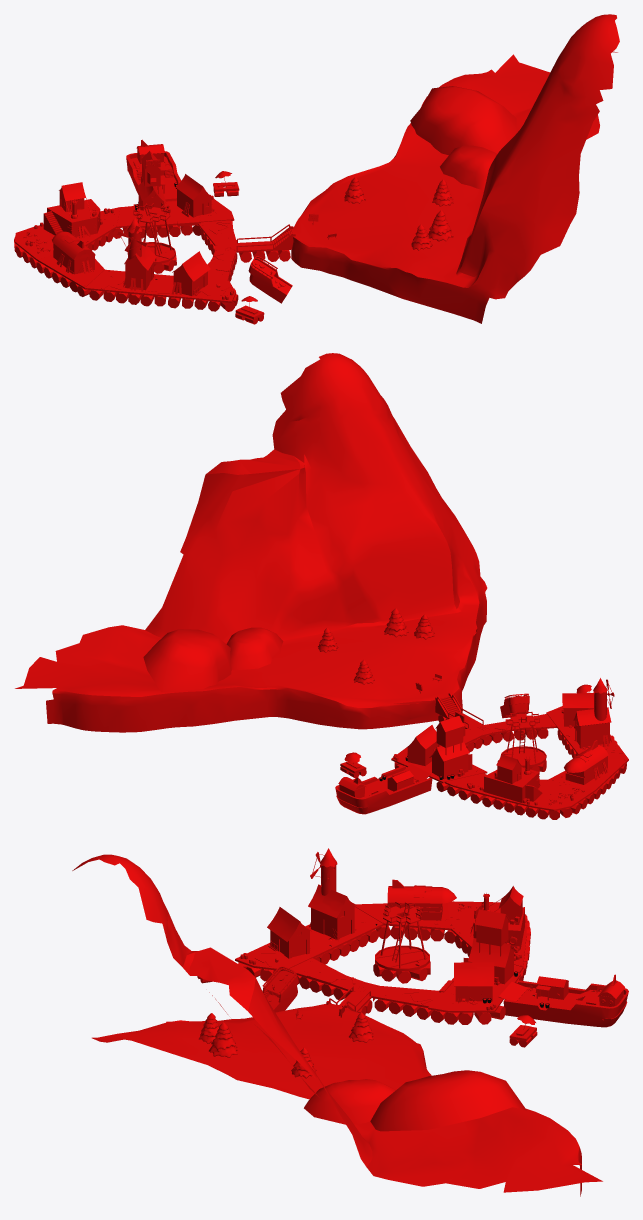
The model's file is Individual_BearTown_02.glb.
3 views of the same model, one above another, from view 1: azimuth 30°, elevation 25°; view 2: azimuth 150°, elevation 25°; view 3: azimuth 270°, elevation 25° (orthographic). The views are drawn at different scales.
Parts seen in each view (by area): view 1: pasted__TheBerg, pasted__polySurface300, pasted__SnowPatch2, pasted__pCube445, pasted__SnowPatch3, pasted__polySurface230, pasted__pCube353, pasted__polySurface242, pasted__pCube380, pasted__polySurface278, pasted__polySurface226, pasted__polySurface240 (+4 smaller); view 2: pasted__TheBerg, pasted__polySurface300, pasted__SnowPatch2, pasted__polySurface301, pasted__polySurface242, pasted__SnowPatch3, pasted__pCube445, pasted__polySurface230, pasted__pCube380, pasted__pCube353, pasted__polySurface240, pasted__polySurface226; view 3: pasted__TheBerg, pasted__polySurface300, pasted__SnowPatch2, pasted__polySurface301, pasted__SnowPatch3, pasted__polySurface230, pasted__polySurface242, pasted__pCube380, pasted__pCube353, pasted__polySurface240, pasted__polySurface226, pasted__polySurface278 (+5 smaller).
Boxes of the visible parts, x1,y1,x2,y2 form: pasted__TheBerg: (291,14,619,323); pasted__polySurface300: (15,199,295,302); pasted__SnowPatch2: (410,86,516,155); pasted__pCube445: (47,182,100,237); pasted__SnowPatch3: (440,145,497,190); pasted__polySurface230: (124,217,156,290); pasted__pCube353: (52,231,95,274); pasted__polySurface242: (137,151,166,220); pasted__pCube380: (127,203,175,264); pasted__polySurface278: (248,256,292,303); pasted__polySurface226: (172,251,210,295); pasted__polySurface240: (175,174,213,217); pasted__TheBerg: (15,353,487,732); pasted__polySurface300: (391,693,628,811); pasted__SnowPatch2: (143,629,231,692); pasted__polySurface301: (335,764,432,814); pasted__polySurface242: (429,711,472,779); pasted__SnowPatch3: (226,627,283,670); pasted__pCube445: (484,754,539,802); pasted__polySurface230: (573,678,611,748); pasted__pCube380: (500,709,546,767); pasted__pCube353: (564,740,608,784); pasted__polySurface240: (405,725,440,765); pasted__polySurface226: (562,693,593,726); pasted__TheBerg: (72,854,602,1196); pasted__polySurface300: (235,901,526,1012); pasted__SnowPatch2: (370,1070,526,1131); pasted__polySurface301: (498,980,628,1027); pasted__SnowPatch3: (304,1079,395,1124); pasted__polySurface230: (308,848,356,939); pasted__polySurface242: (463,904,515,984); pasted__pCube380: (375,902,429,971); pasted__pCube353: (387,879,456,920); pasted__polySurface240: (454,962,494,1001); pasted__polySurface226: (267,907,311,958); pasted__polySurface278: (262,966,298,1012).
Size of the model in its own units: 107 by 48.93 by 87.84.
